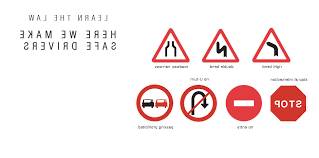Double_bend_left: (202, 28, 240, 62)
